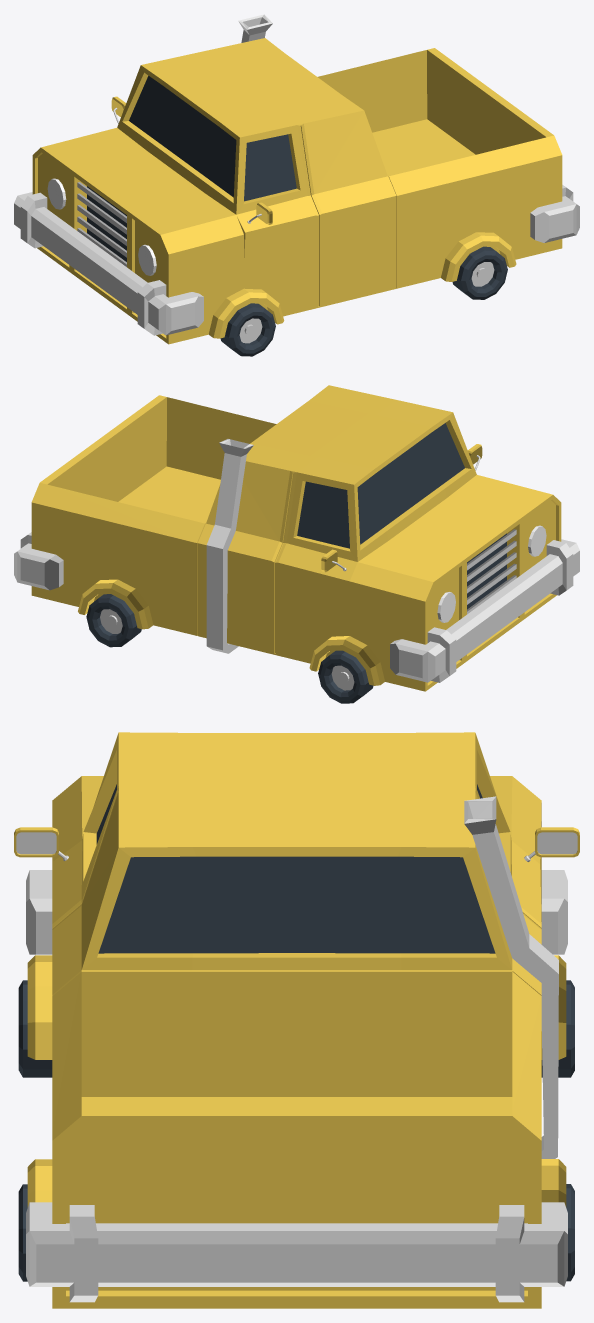
The model's file is yellow_car.fbx.
3 views of the same model, one above another, from view 1: azimuth 30°, elevation 25°; view 2: azimuth 150°, elevation 25°; view 3: azimuth 270°, elevation 25° (orthographic). The views are drawn at different scales.
Parts seen in each view (by area): view 1: yellow_car; view 2: yellow_car; view 3: yellow_car.
Boxes of the visible parts, x1,y1,x2,y2 form: yellow_car: [14, 14, 579, 356]; yellow_car: [14, 385, 579, 703]; yellow_car: [14, 732, 579, 1308].
Size of the model in its own units: 350 by 164 by 222.
1 material, 1 textured.
